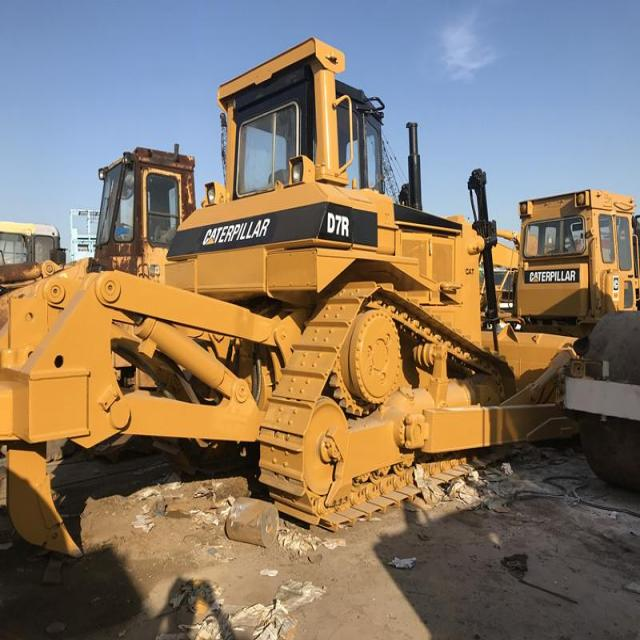Bulldozer: (2, 20, 620, 575)
